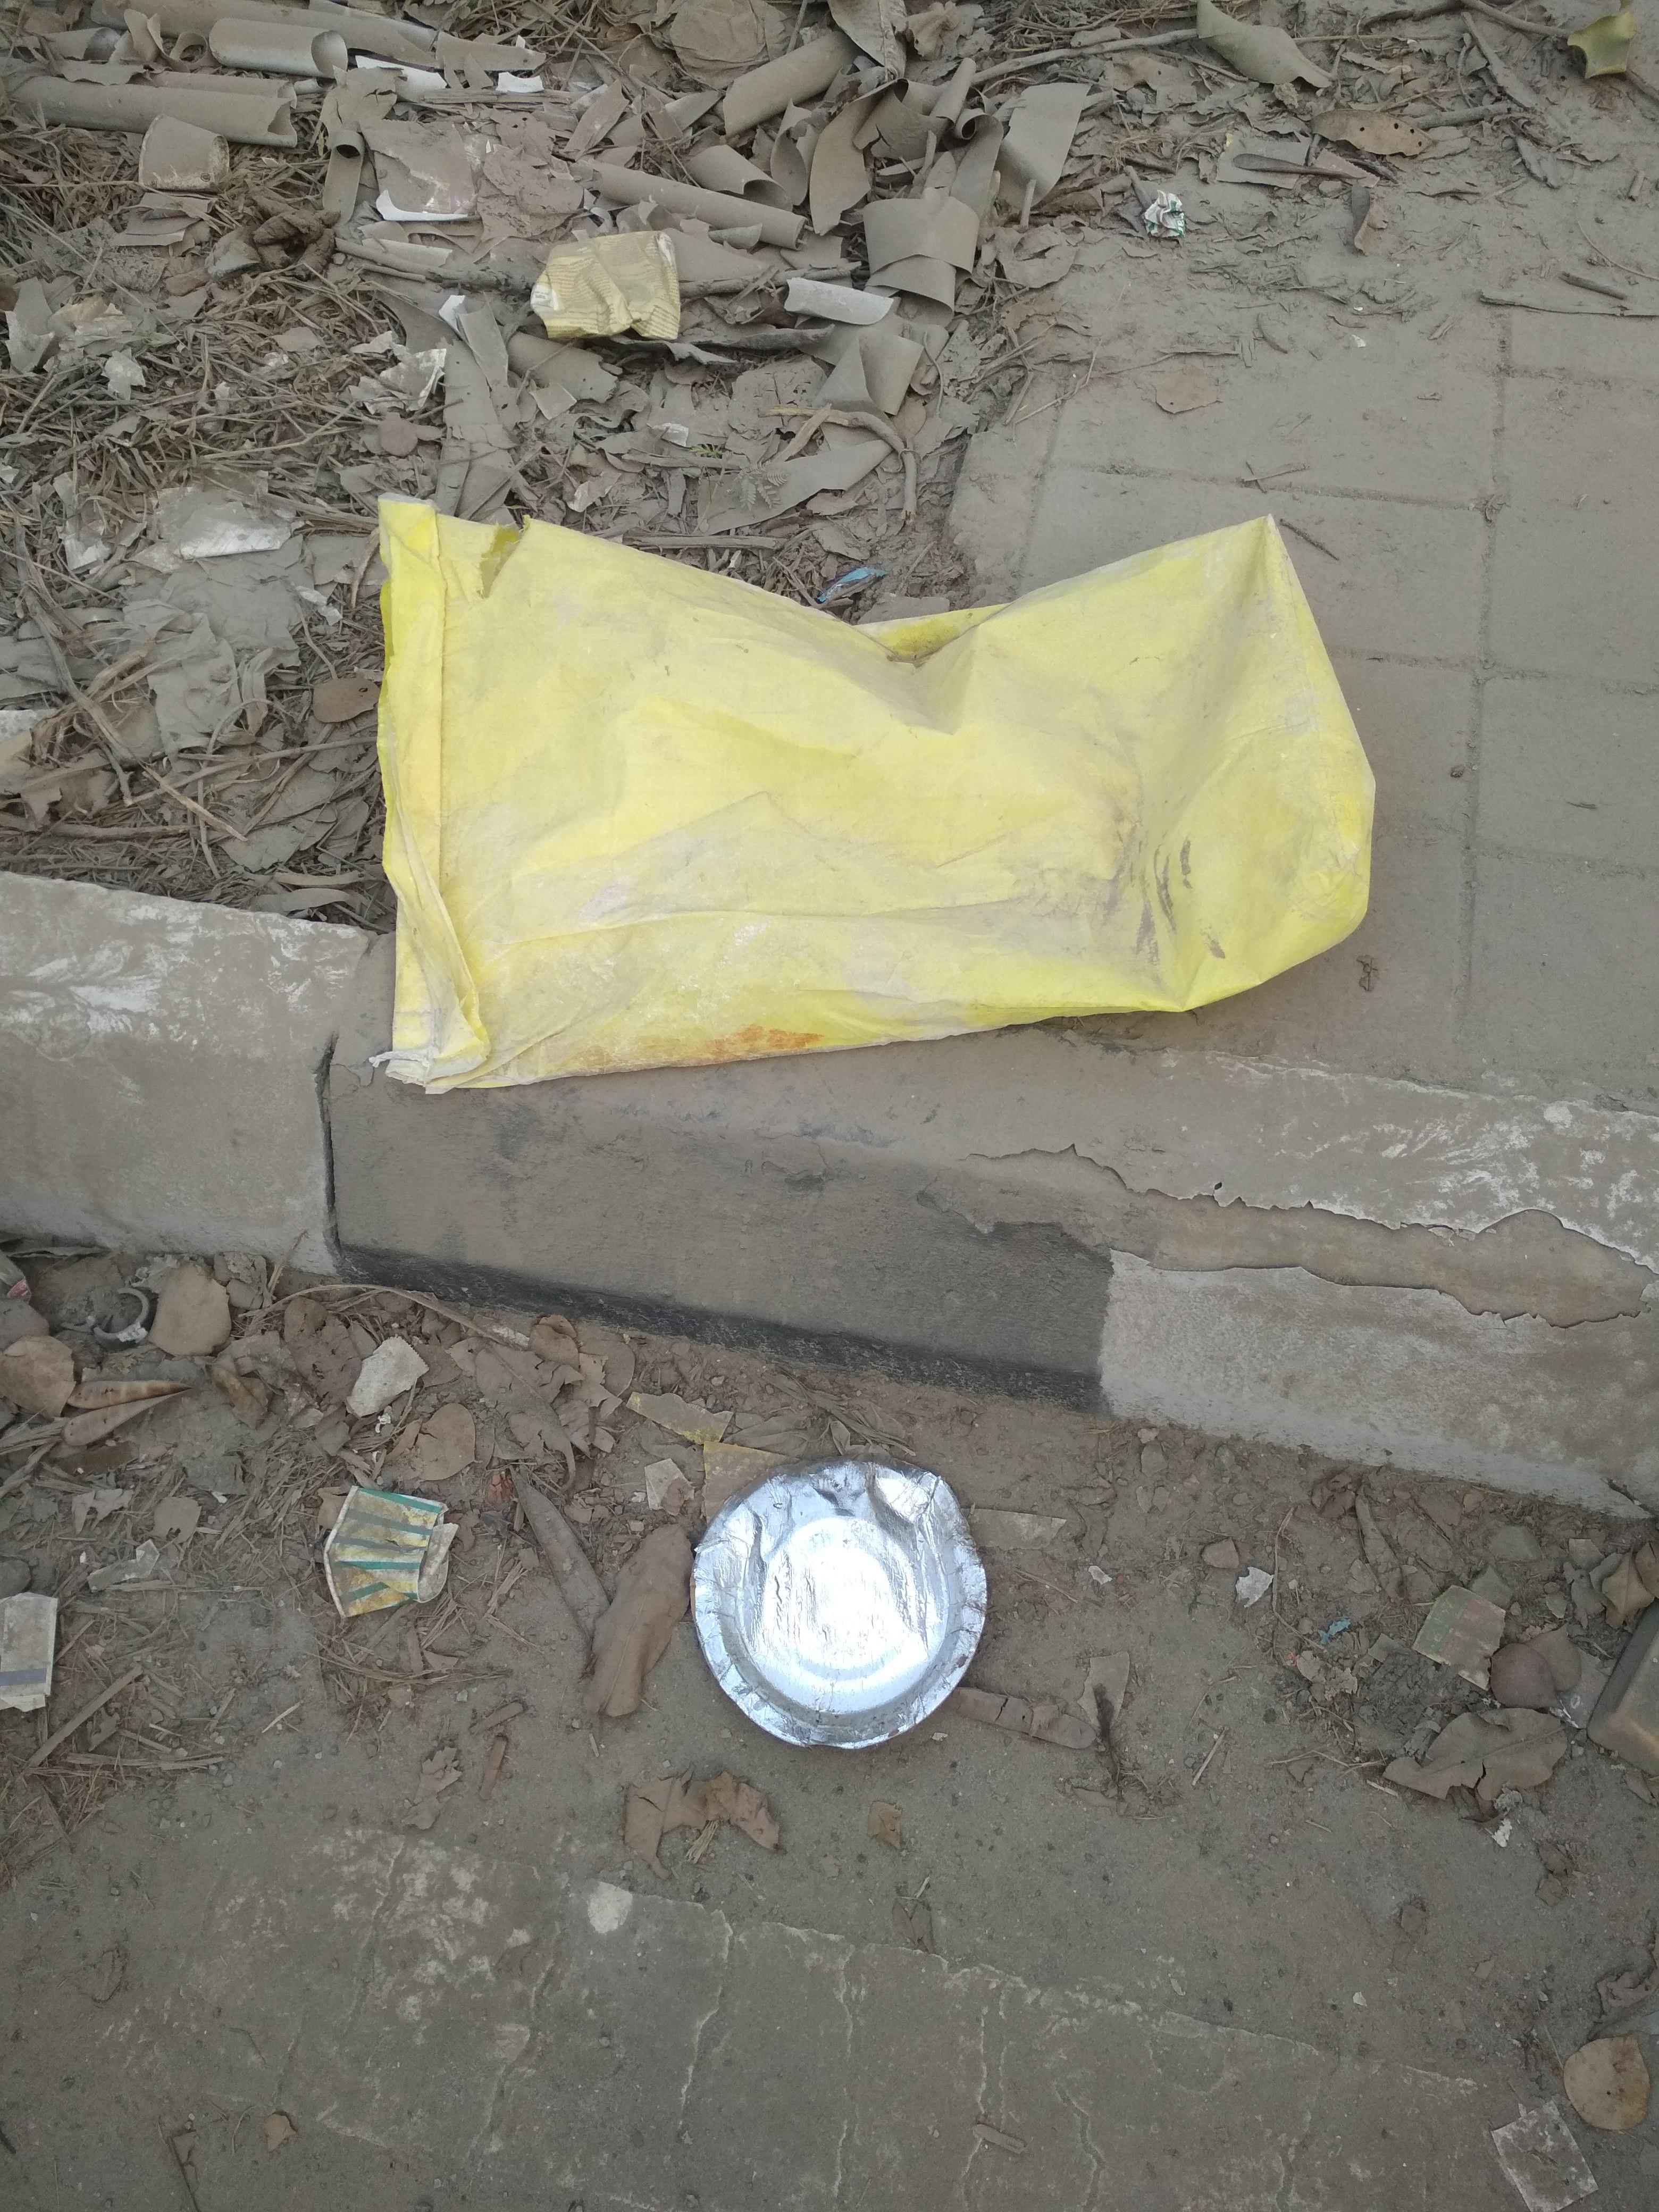trash: (345, 221, 1373, 1770)
